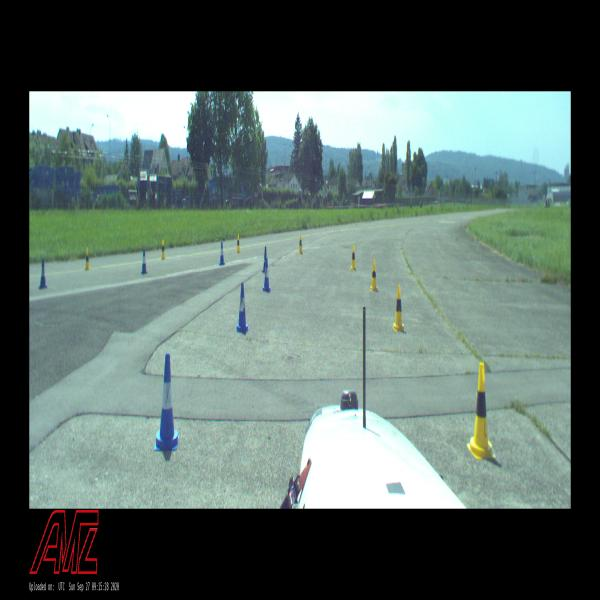blue_cone: (154, 354, 179, 450), (237, 283, 249, 333), (262, 258, 270, 292), (39, 258, 47, 288), (141, 249, 148, 273), (219, 241, 225, 265), (262, 246, 267, 272)
yellow_cone: (467, 363, 495, 458), (393, 285, 405, 331), (370, 259, 378, 291), (84, 248, 91, 270), (350, 246, 356, 270), (298, 234, 303, 254), (161, 240, 166, 260), (236, 234, 241, 253)
